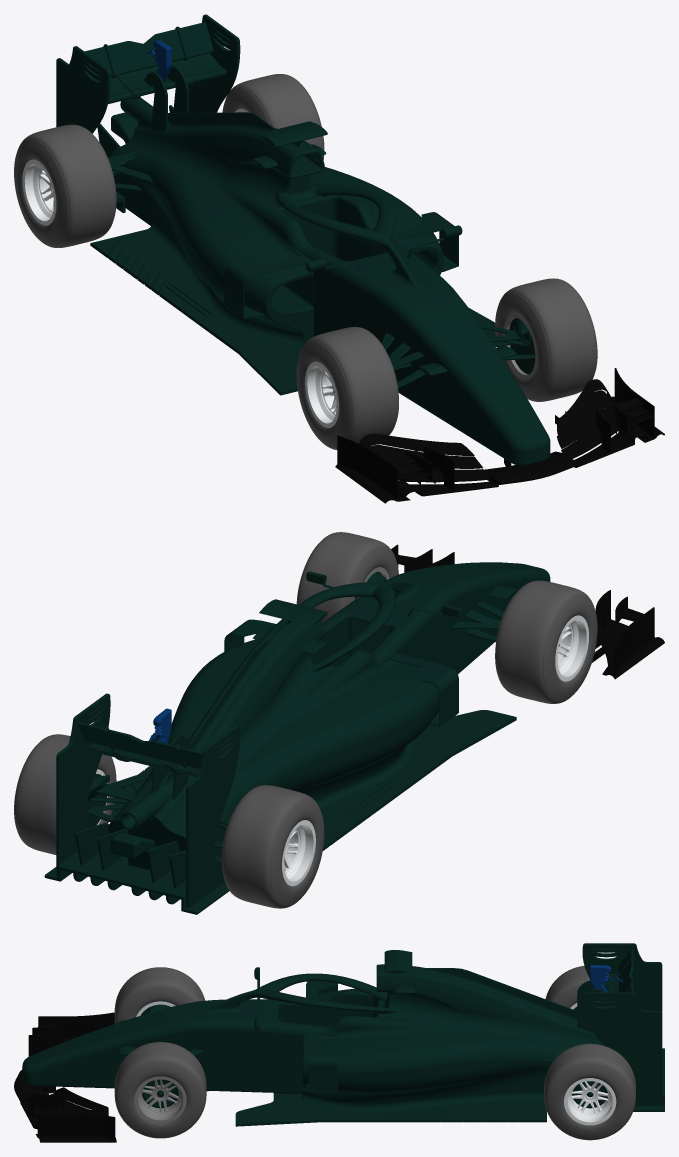
The model's file is formula_1_car.glb.
The picture shows the model from 3 angles, top to bottom: view 1: azimuth 30°, elevation 25°; view 2: azimuth 150°, elevation 25°; view 3: azimuth 270°, elevation 25°; orthographic projection. The views are drawn at different scales.
Parts seen in each view (by area): view 1: Object_2, Object_6, Object_11, Object_9, Object_7, Object_4, Object_12, Object_10; view 2: Object_2, Object_9, Object_11, Object_4, Object_7, Object_6, Object_10, Object_12; view 3: Object_2, Object_6, Object_7, Object_4, Object_9, Object_5, Object_8, Object_11, Object_3.
Boxes of the visible parts, x1,y1,x2,y2 form: Object_2: (56, 14, 550, 465); Object_6: (335, 368, 664, 503); Object_11: (14, 124, 116, 247); Object_9: (296, 327, 398, 449); Object_7: (495, 278, 597, 401); Object_4: (222, 74, 324, 160); Object_12: (22, 159, 56, 225); Object_10: (305, 361, 338, 427); Object_2: (44, 562, 559, 914); Object_9: (495, 580, 597, 703); Object_11: (222, 785, 324, 908); Object_4: (14, 734, 116, 854); Object_7: (296, 532, 398, 622); Object_6: (391, 544, 664, 679); Object_10: (555, 615, 588, 681); Object_12: (282, 820, 315, 886); Object_2: (22, 943, 664, 1126); Object_6: (14, 1012, 116, 1142); Object_7: (114, 1042, 206, 1138); Object_4: (544, 1043, 635, 1140); Object_9: (114, 967, 204, 1023); Object_5: (564, 1078, 616, 1125); Object_8: (134, 1076, 186, 1123); Object_11: (545, 965, 589, 1007); Object_3: (590, 965, 623, 992).
Bounding box in the file's own units: 1793 × 1069 × 4668.
